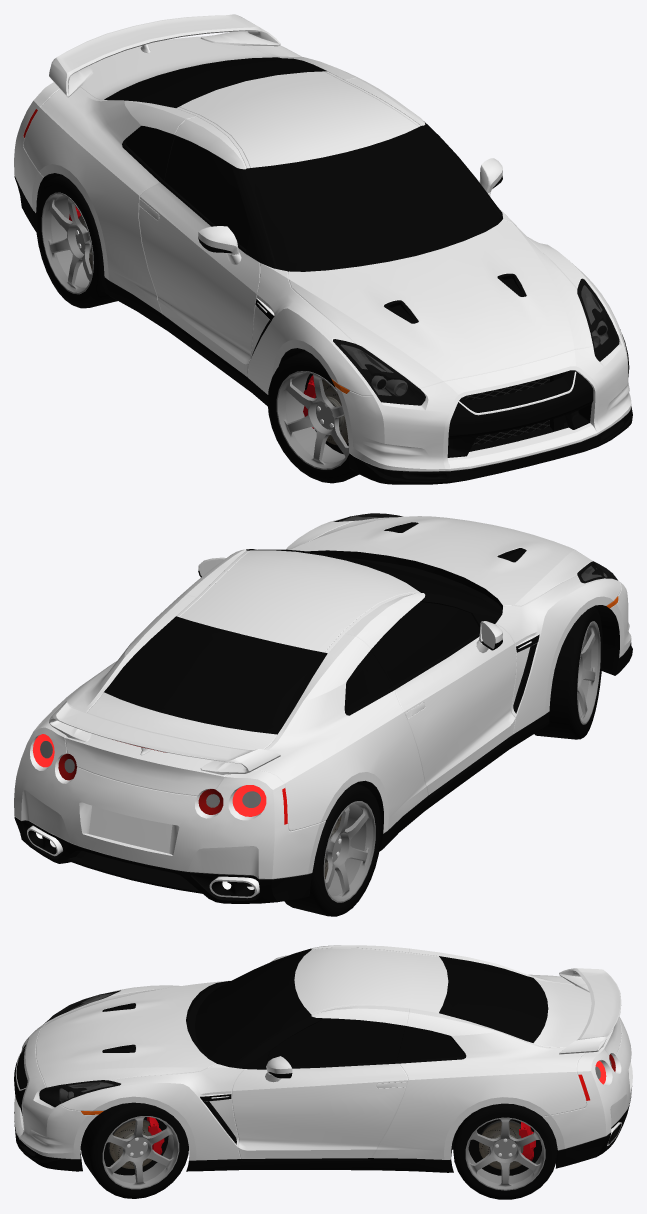
The model's file is nissan_gt-r.glb.
3 renders of one model, top to bottom at view 1: azimuth 30°, elevation 25°; view 2: azimuth 150°, elevation 25°; view 3: azimuth 270°, elevation 25°, orthographic. The views are drawn at different scales.
Parts seen in each view (by area): view 1: mesh.001_paint_0, mesh.011_glass_0, mesh.004_bumpa_0, mesh.003_mlack_0, wheel.002, wheel.001, mesh.010_glass_l_0, mesh.007_black_0, mesh.008_bhrome_0, mesh.015_grill_0; view 2: mesh.001_paint_0, mesh.011_glass_0, mesh.004_bumpa_0, mesh.003_mlack_0, wheel.001, wheel.002, mesh.008_bhrome_0, mesh.014_red_0, mesh.010_glass_l_0, mesh.012_brake_0, mesh_light_0; view 3: mesh.001_paint_0, mesh.011_glass_0, mesh.004_bumpa_0, wheel, wheel.001, mesh.003_mlack_0, mesh.010_glass_l_0, mesh.007_black_0, mesh.008_bhrome_0.
Part boxes in pixels (x1=…): mesh.001_paint_0: x1=14, y1=14, x2=631, y2=471; mesh.011_glass_0: x1=113, y1=58, x2=491, y2=262; mesh.004_bumpa_0: x1=14, y1=121, x2=632, y2=484; mesh.003_mlack_0: x1=36, y1=57, x2=612, y2=451; wheel.002: x1=267, y1=350, x2=359, y2=483; wheel.001: x1=35, y1=175, x2=117, y2=308; mesh.010_glass_l_0: x1=333, y1=278, x2=619, y2=405; mesh.007_black_0: x1=333, y1=279, x2=618, y2=405; mesh.008_bhrome_0: x1=256, y1=285, x2=607, y2=395; mesh.015_grill_0: x1=465, y1=376, x2=549, y2=445; mesh.001_paint_0: x1=14, y1=516, x2=631, y2=879; mesh.011_glass_0: x1=113, y1=549, x2=491, y2=728; mesh.004_bumpa_0: x1=14, y1=522, x2=632, y2=903; mesh.003_mlack_0: x1=27, y1=550, x2=619, y2=897; wheel.001: x1=284, y1=783, x2=381, y2=916; wheel.002: x1=534, y1=606, x2=602, y2=739; mesh.008_bhrome_0: x1=27, y1=516, x2=606, y2=898; mesh.014_red_0: x1=32, y1=734, x2=266, y2=816; mesh.010_glass_l_0: x1=333, y1=513, x2=617, y2=583; mesh.012_brake_0: x1=58, y1=741, x2=223, y2=814; mesh_light_0: x1=40, y1=741, x2=260, y2=807; mesh.001_paint_0: x1=14, y1=945, x2=632, y2=1160; mesh.011_glass_0: x1=206, y1=952, x2=543, y2=1066; mesh.004_bumpa_0: x1=14, y1=948, x2=631, y2=1172; wheel: x1=81, y1=1102, x2=188, y2=1198; wheel.001: x1=453, y1=1103, x2=557, y2=1199; mesh.003_mlack_0: x1=29, y1=949, x2=621, y2=1168; mesh.010_glass_l_0: x1=39, y1=990, x2=120, y2=1107; mesh.007_black_0: x1=39, y1=991, x2=120, y2=1106; mesh.008_bhrome_0: x1=59, y1=993, x2=621, y2=1145.
Size of the model in its own units: 92.82 by 65.93 by 211.
21 materials, 2 textured.
